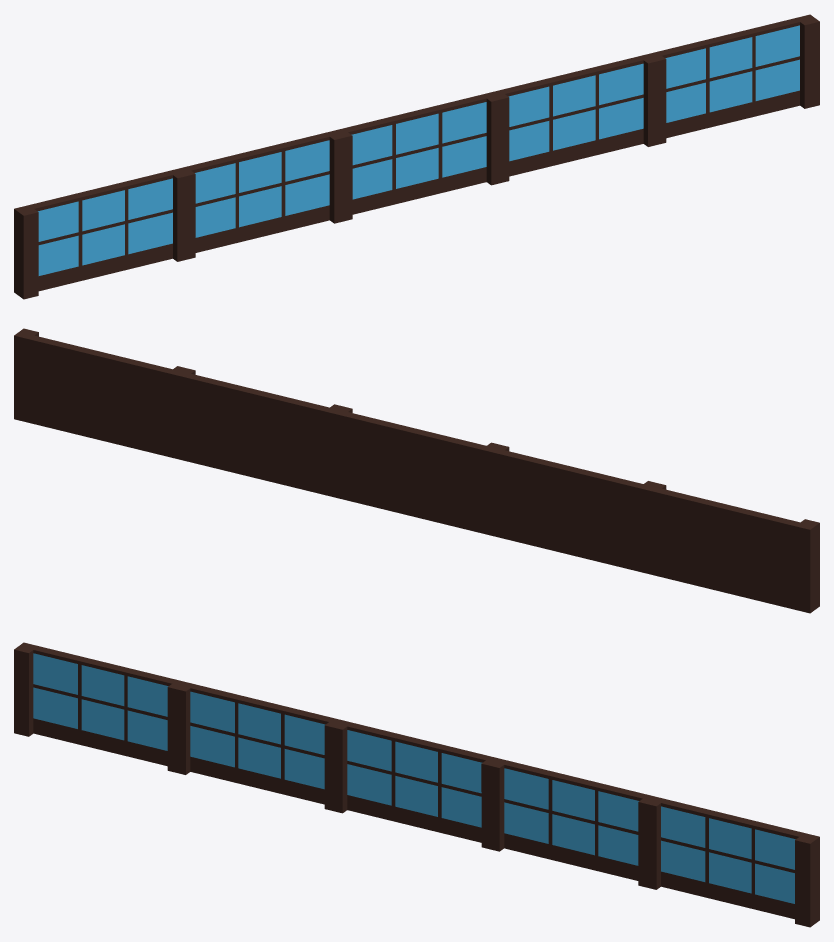
The model's file is TUONGDAICUASO_BONGRO.fbx.
3 views of the same model, one above another, from view 1: azimuth 30°, elevation 25°; view 2: azimuth 150°, elevation 25°; view 3: azimuth 330°, elevation 25° (orthographic).
Visible parts, largest first — view 1: TUONGDAICUASO_BONGRO; view 2: TUONGDAICUASO_BONGRO; view 3: TUONGDAICUASO_BONGRO.
Part boxes in pixels (x1,y1,x2,y2): TUONGDAICUASO_BONGRO: [14, 14, 819, 299]; TUONGDAICUASO_BONGRO: [14, 328, 819, 613]; TUONGDAICUASO_BONGRO: [14, 642, 819, 927].
Size of the model in its own units: 5297 by 532 by 113.
